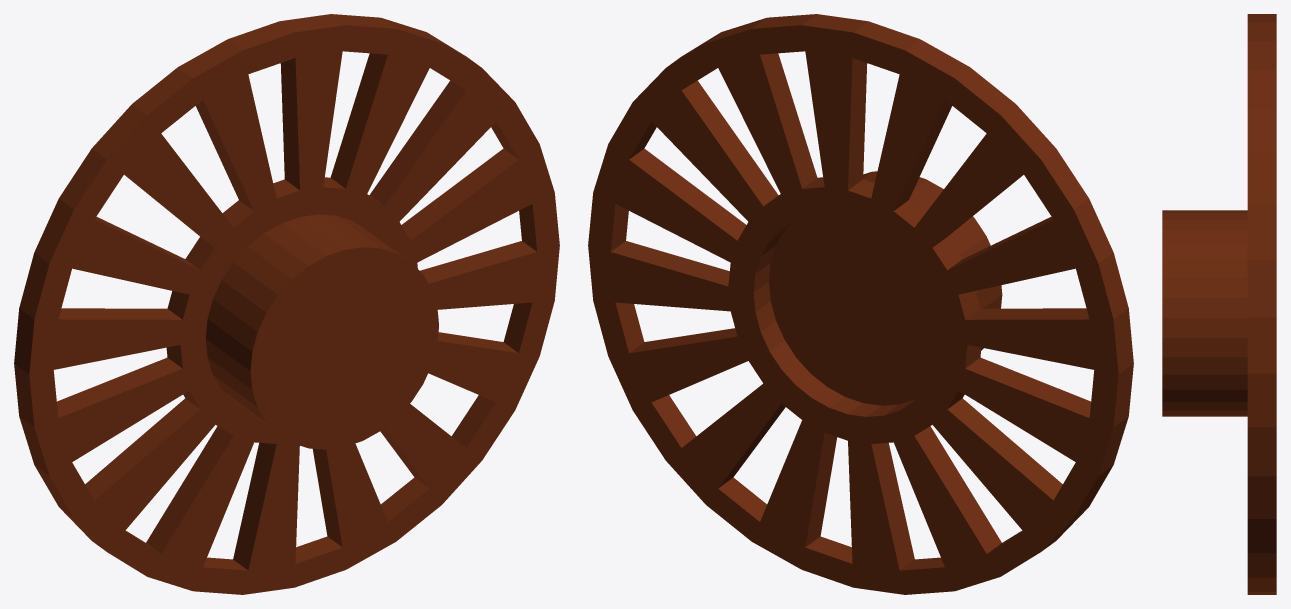
The model's file is Wheel.fbx.
3 renders of one model, left to right at view 1: azimuth 30°, elevation 25°; view 2: azimuth 150°, elevation 25°; view 3: azimuth 270°, elevation 25°, orthographic. The views are drawn at different scales.
Parts seen in each view (by area): view 1: Cylinder.002; view 2: Cylinder.002; view 3: Cylinder.002.
Boxes of the visible parts, x1,y1,x2,y2 form: Cylinder.002: (14,14,559,594); Cylinder.002: (588,14,1133,594); Cylinder.002: (1162,14,1276,594).
Size of the model in its own units: 102 by 102 by 19.96.
